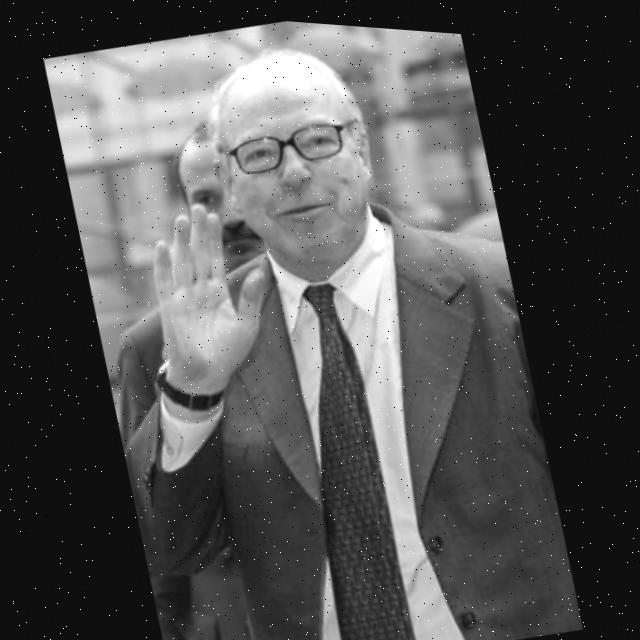face: (195, 56, 388, 275)
